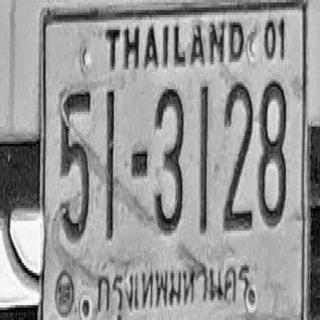N01: (105, 88, 115, 239), (199, 82, 209, 233)
N02: (223, 79, 253, 231)
N03: (154, 87, 184, 233)
N05: (59, 87, 92, 241)
N08: (258, 79, 286, 226)
P04: (92, 260, 256, 320)
